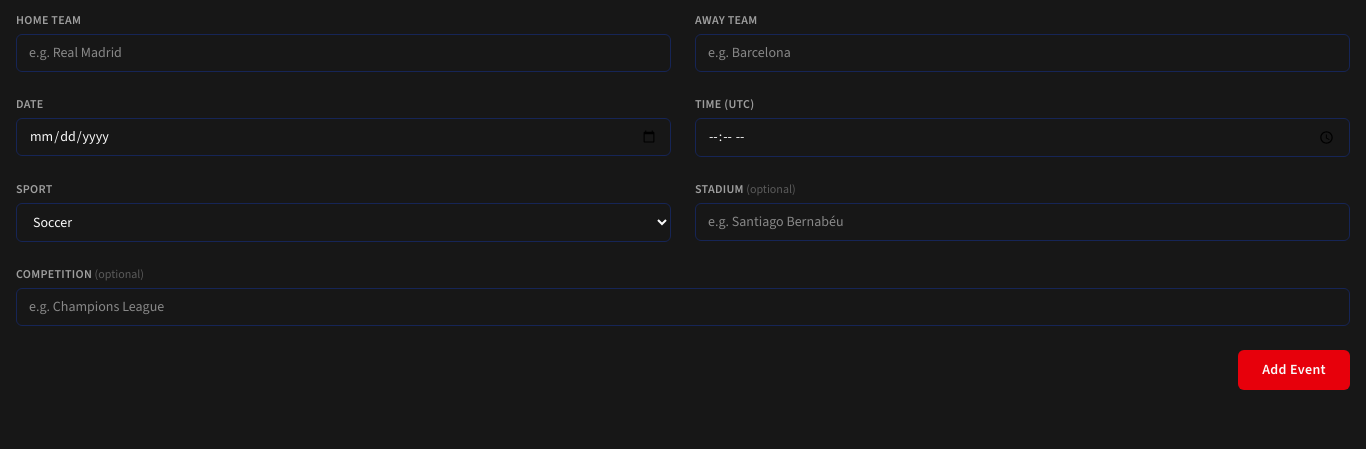
AddEventForm — validation on submit › shows error messages when submitting empty form
This screenshot has width=1366, height=449.
Click the button "Add Event". click: [1294, 370]
box: 1238,350 -> 1350,390
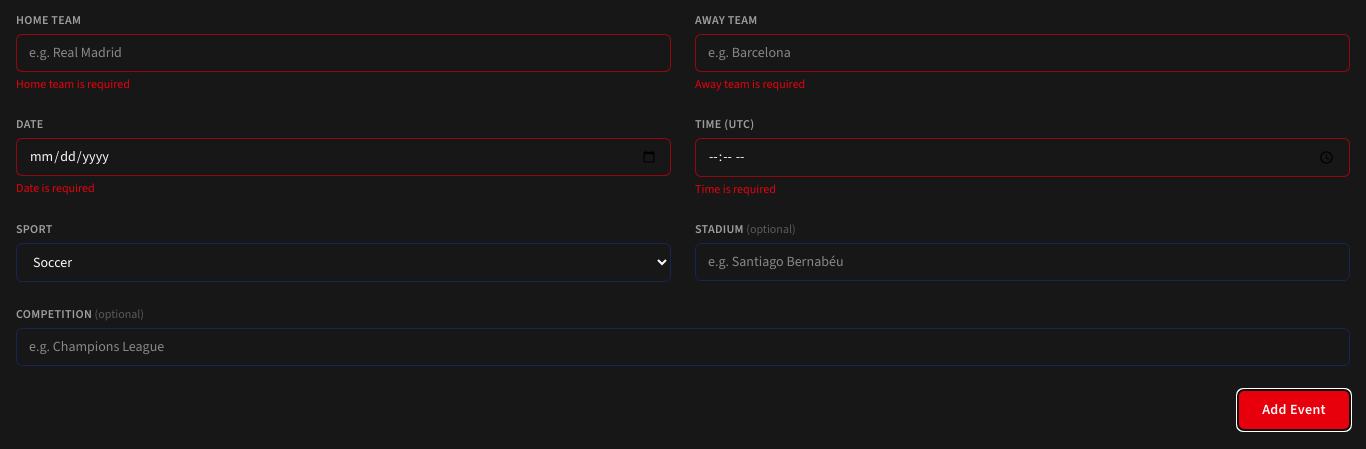
Result: the text "Home team is required" is shown at 16,76 -> 130,92
Result: the text "Away team is required" is shown at 695,76 -> 805,92
